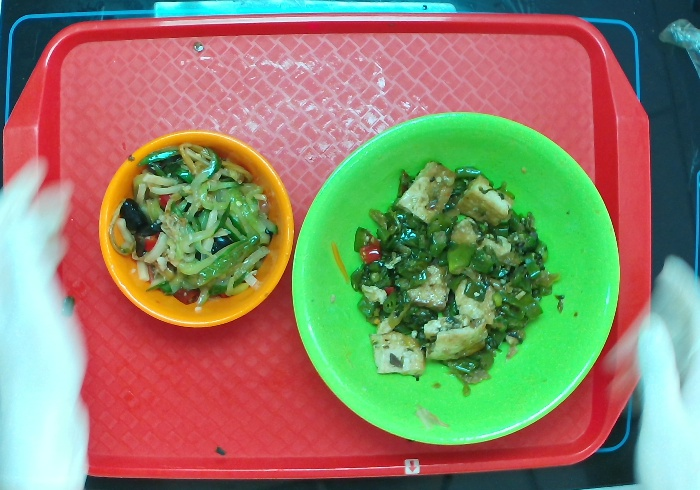YKMZ-Ju_Se_Yuan_Wan: (87, 126, 298, 334)
YKMZ-Lv_Se_Tang_Wan: (290, 108, 623, 453)
